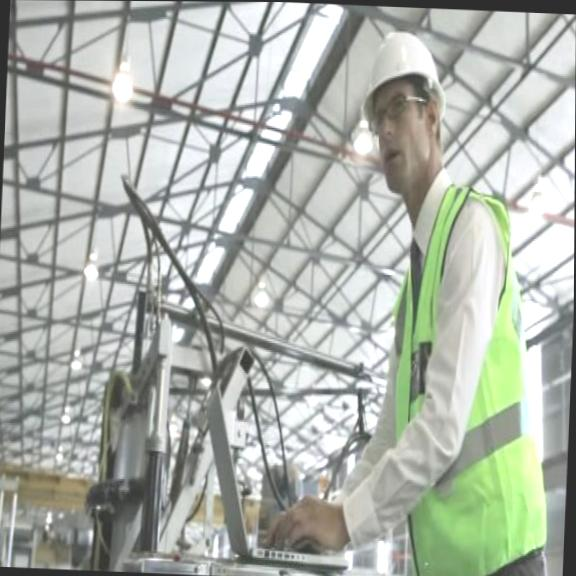safety_vest: (364, 190, 548, 567)
